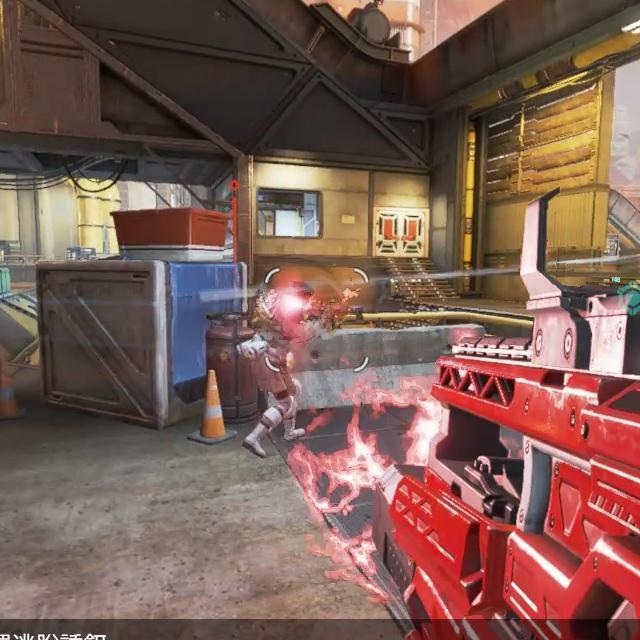avatar: (239, 277, 316, 462)
